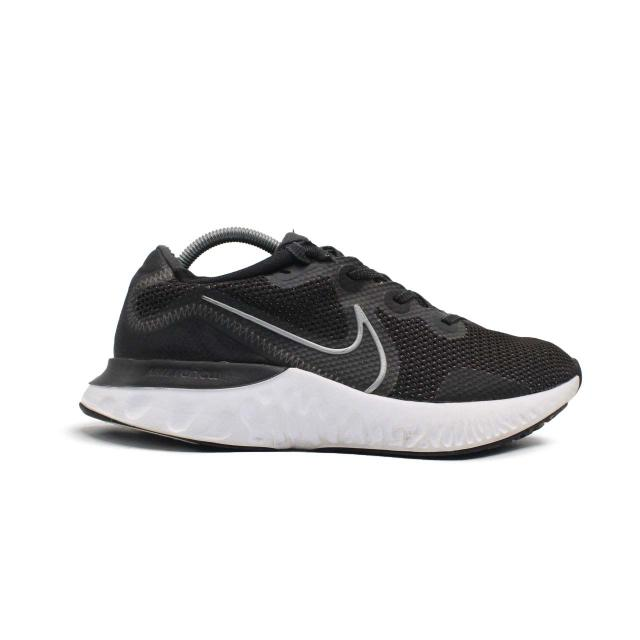heel: (111, 245, 177, 356)
midsole: (73, 357, 583, 458)
uppersole: (149, 233, 576, 402)
